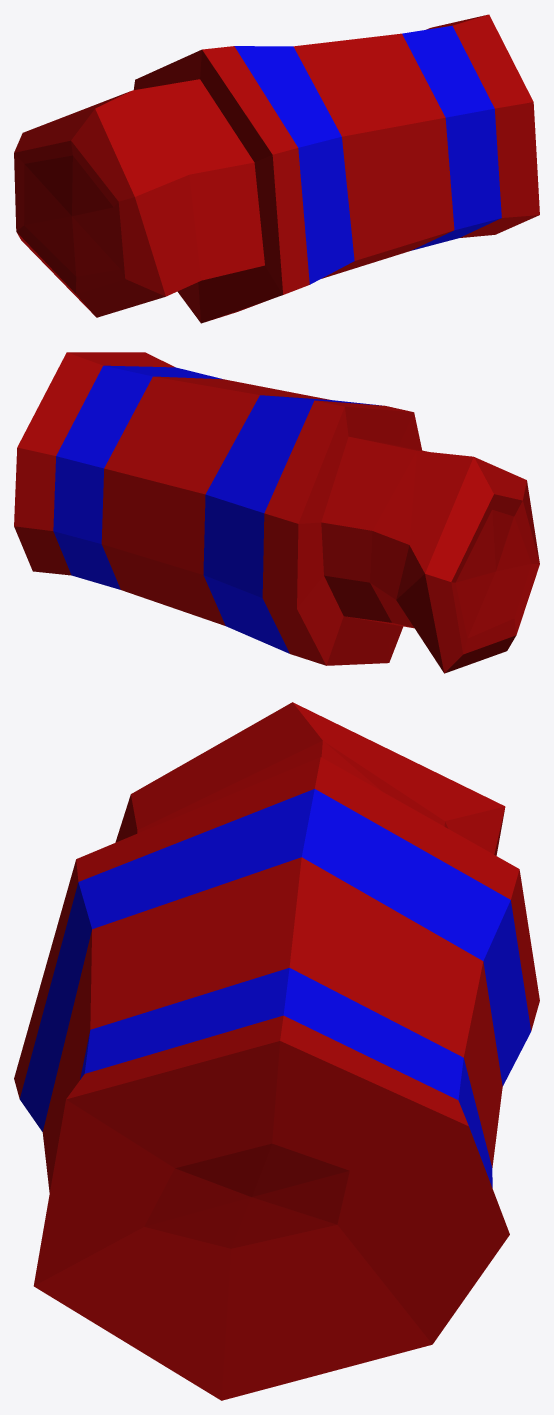
Rendered from Chr_ArmLowerLeft_Male_Static_18.fbx.
3 views of the same model, one above another, from view 1: azimuth 30°, elevation 25°; view 2: azimuth 150°, elevation 25°; view 3: azimuth 270°, elevation 25° (orthographic). The views are drawn at different scales.
Parts seen in each view (by area): view 1: Chr_ArmLowerLeft_Male_18; view 2: Chr_ArmLowerLeft_Male_18; view 3: Chr_ArmLowerLeft_Male_18.
Part boxes in pixels (box(x1,y1,x2,y2)): Chr_ArmLowerLeft_Male_18: box(14, 14, 539, 323); Chr_ArmLowerLeft_Male_18: box(14, 352, 539, 673); Chr_ArmLowerLeft_Male_18: box(14, 702, 539, 1400).
Size of the model in its own units: 29.18 by 16.64 by 17.47.
